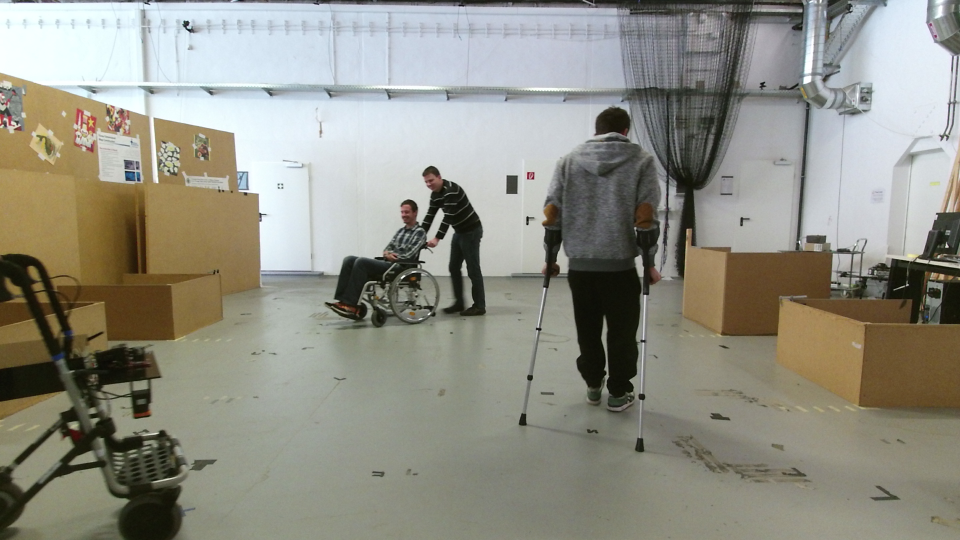crutches: (513, 101, 662, 456)
